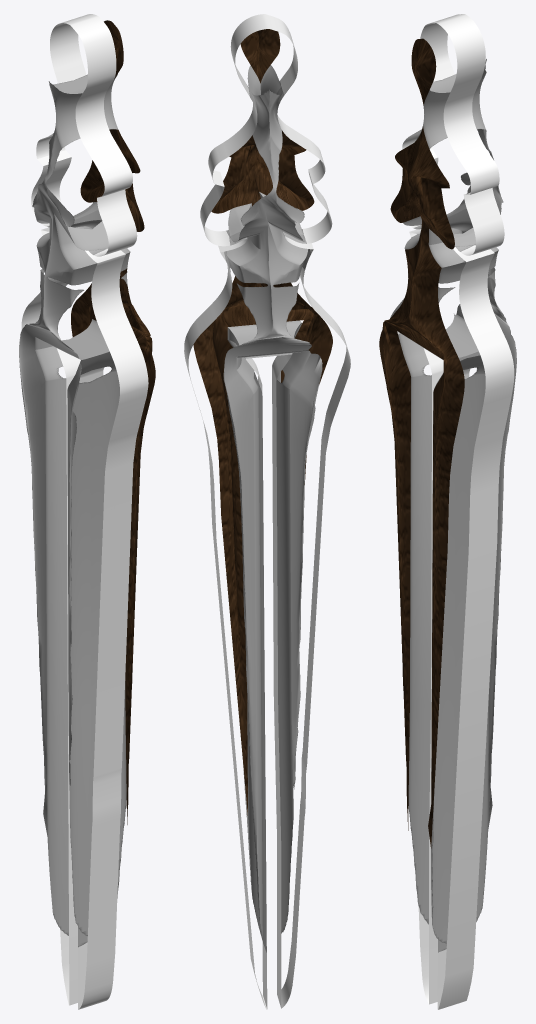
Rendered from boobs3.obj.
3 renders of one model, left to right at view 1: azimuth 90°, elevation 25°; view 2: azimuth 150°, elevation 25°; view 3: azimuth 270°, elevation 25°, orthographic.
Visible parts, largest first — view 1: Layer 1; view 2: Layer 1; view 3: Layer 1.
Boxes of the visible parts, x1,y1,x2,y2 form: Layer 1: (19, 14, 155, 1009); Layer 1: (184, 14, 350, 1009); Layer 1: (379, 14, 516, 1009).
Bounding box in the file's own units: 3.2 × 22.19 × 2.91.
